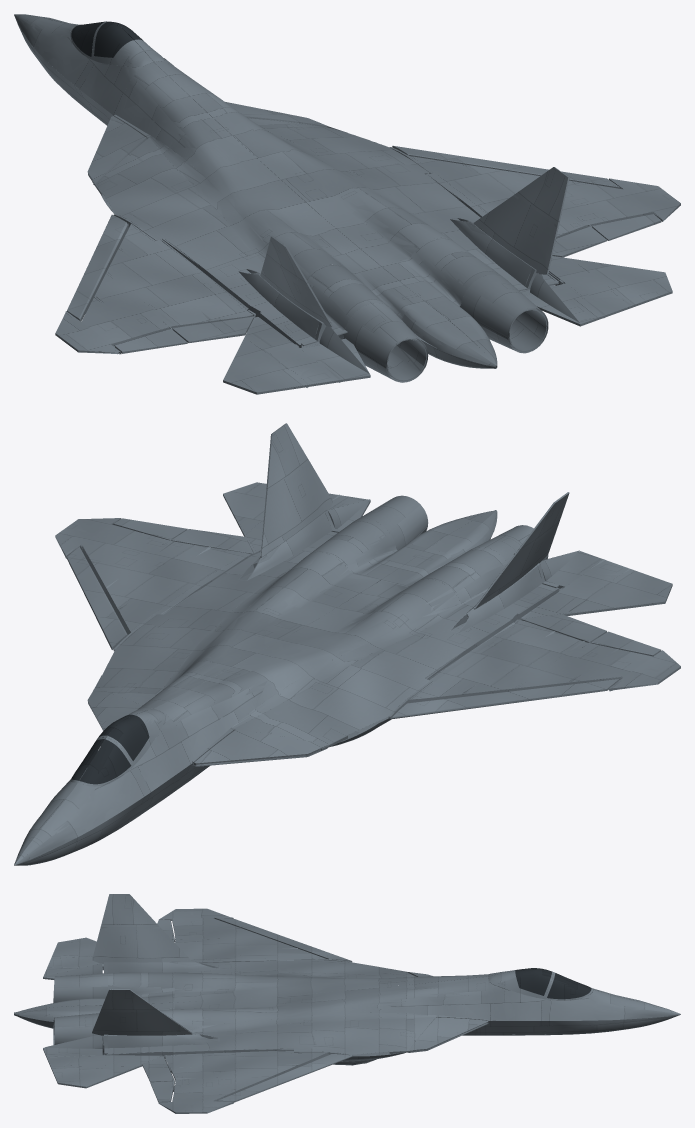
3 renders of one model, top to bottom at view 1: azimuth 30°, elevation 25°; view 2: azimuth 150°, elevation 25°; view 3: azimuth 270°, elevation 25°, orthographic. The views are drawn at different scales.
Visible parts, largest first — view 1: aircraft; view 2: aircraft; view 3: aircraft.
Part boxes in pixels (<box>): aircraft: <box>14,14,680,394</box>; aircraft: <box>14,423,680,865</box>; aircraft: <box>14,894,680,1113</box>.
Size of the model in its own units: 36.17 by 8.33 by 50.1.
Materials: 2 (2 with a texture image).
